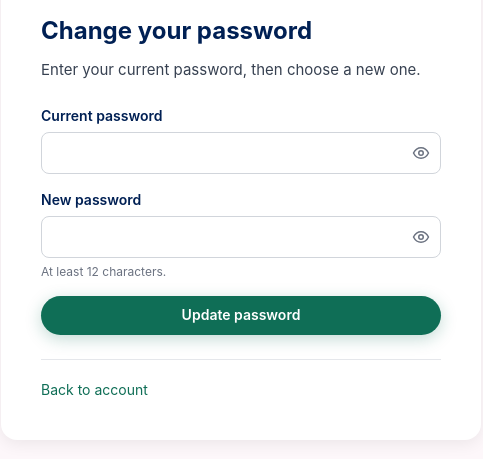
Scenario: ResetPasswordForm — submission › submits and renders the success card on successful change
This screenshot has width=483, height=459.
Type "OldStrong!Pass99" into the password field labelled "Current password".
click(241, 153); type("OldStrong!Pass99")  # box [41, 132, 441, 174]
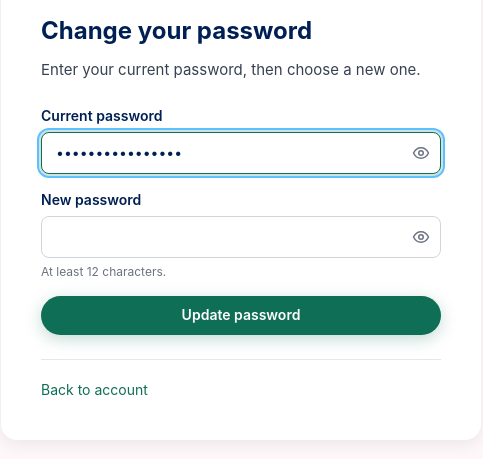
Type "NewStrong!Pass99" into the password field labelled "New password".
click(241, 237); type("NewStrong!Pass99")  # box [41, 216, 441, 258]
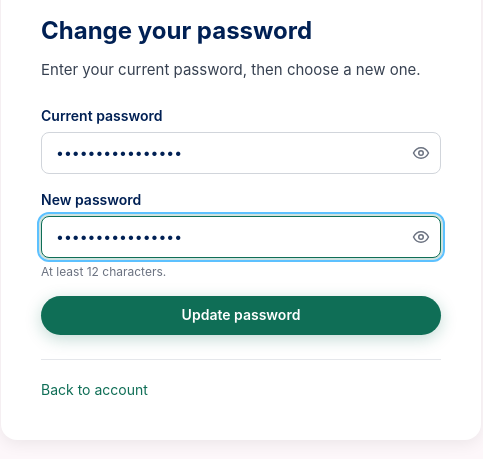
Click the button "Update password".
click(241, 316)  # box [41, 296, 441, 335]
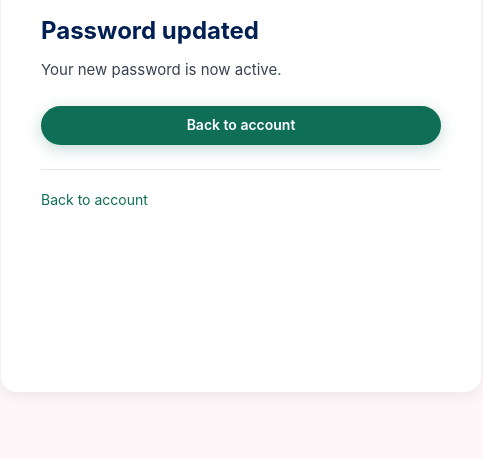
Expected: the heading "Password updated" is shown, [41, 16, 259, 45]
